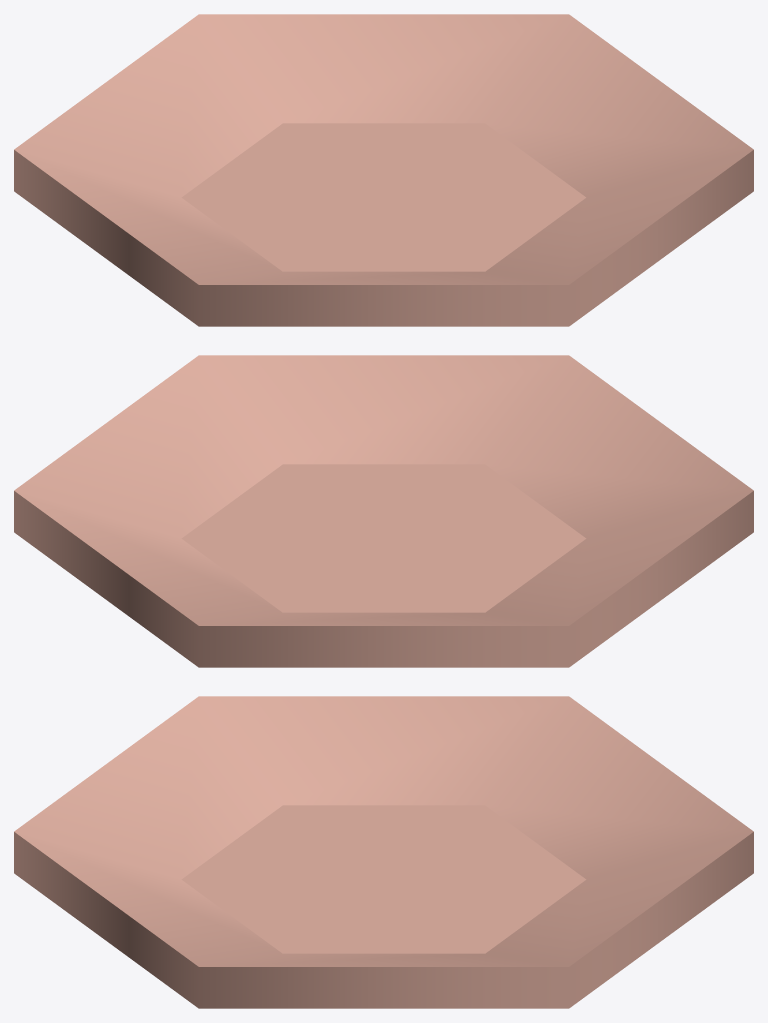
The model's file is n4_plate_001_lev4.001.glb.
The picture shows the model from 3 angles, top to bottom: view 1: azimuth 30°, elevation 25°; view 2: azimuth 150°, elevation 25°; view 3: azimuth 270°, elevation 25°; orthographic projection.
Visible parts, largest first — view 1: n4_plate_001_lev4.001; view 2: n4_plate_001_lev4.001; view 3: n4_plate_001_lev4.001.
Part boxes in pixels (x1=…): n4_plate_001_lev4.001: x1=14, y1=14, x2=753, y2=326; n4_plate_001_lev4.001: x1=14, y1=355, x2=753, y2=667; n4_plate_001_lev4.001: x1=14, y1=696, x2=753, y2=1008.
Size of the model in its own units: 0.9389 by 0.1382 by 1.08.
Materials: 1 (1 with a texture image).
